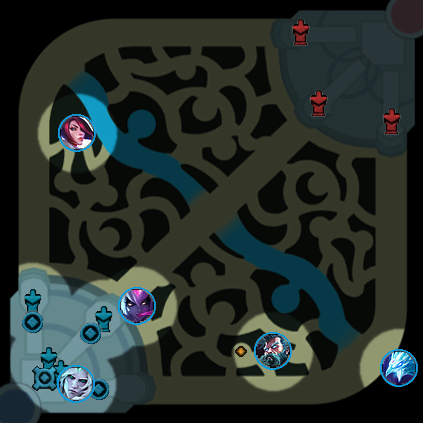Anivia: (380, 349, 418, 387)
Evelynn: (118, 287, 156, 325)
Fiora: (58, 114, 96, 152)
Viego: (57, 365, 95, 403)
Zilean: (254, 332, 292, 370)
